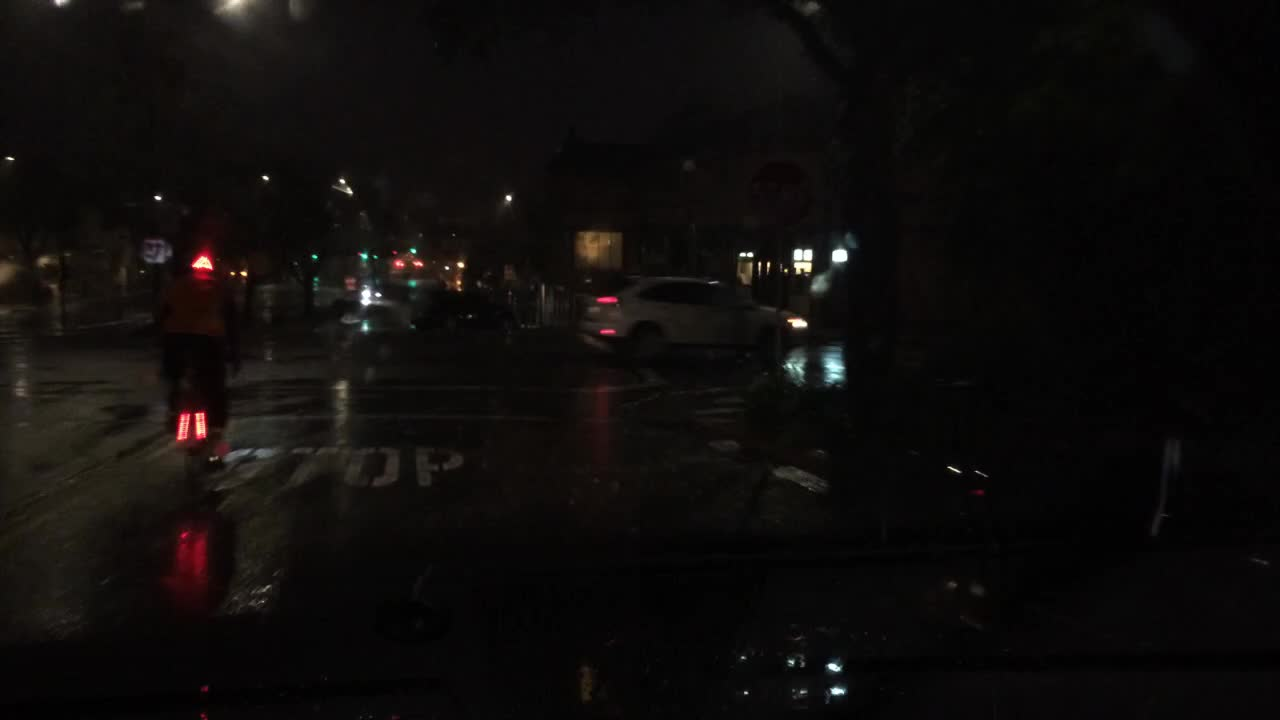bike: (145, 340, 243, 492)
car: (579, 273, 809, 353), (438, 292, 521, 342), (392, 255, 427, 272)
rider: (158, 256, 244, 473)
traffic light: (310, 252, 320, 260), (409, 239, 414, 253), (359, 250, 365, 260)
traffic sign: (140, 235, 171, 265), (345, 274, 358, 291)
